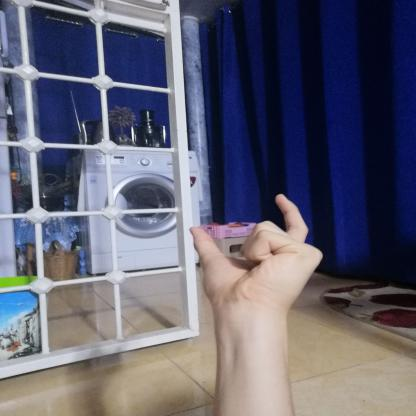NOON: (175, 182, 339, 327)
